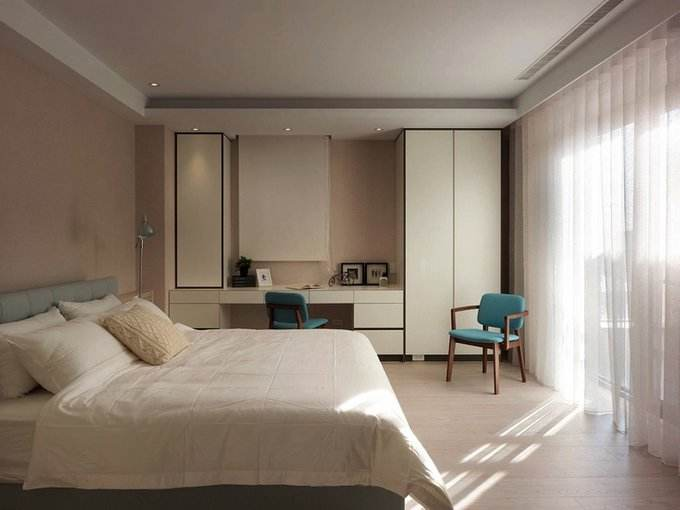床: (6, 313, 426, 499)
枕头: (9, 297, 184, 399)
灯: (189, 123, 204, 136), (370, 127, 389, 137), (280, 125, 297, 135), (144, 82, 159, 93)
